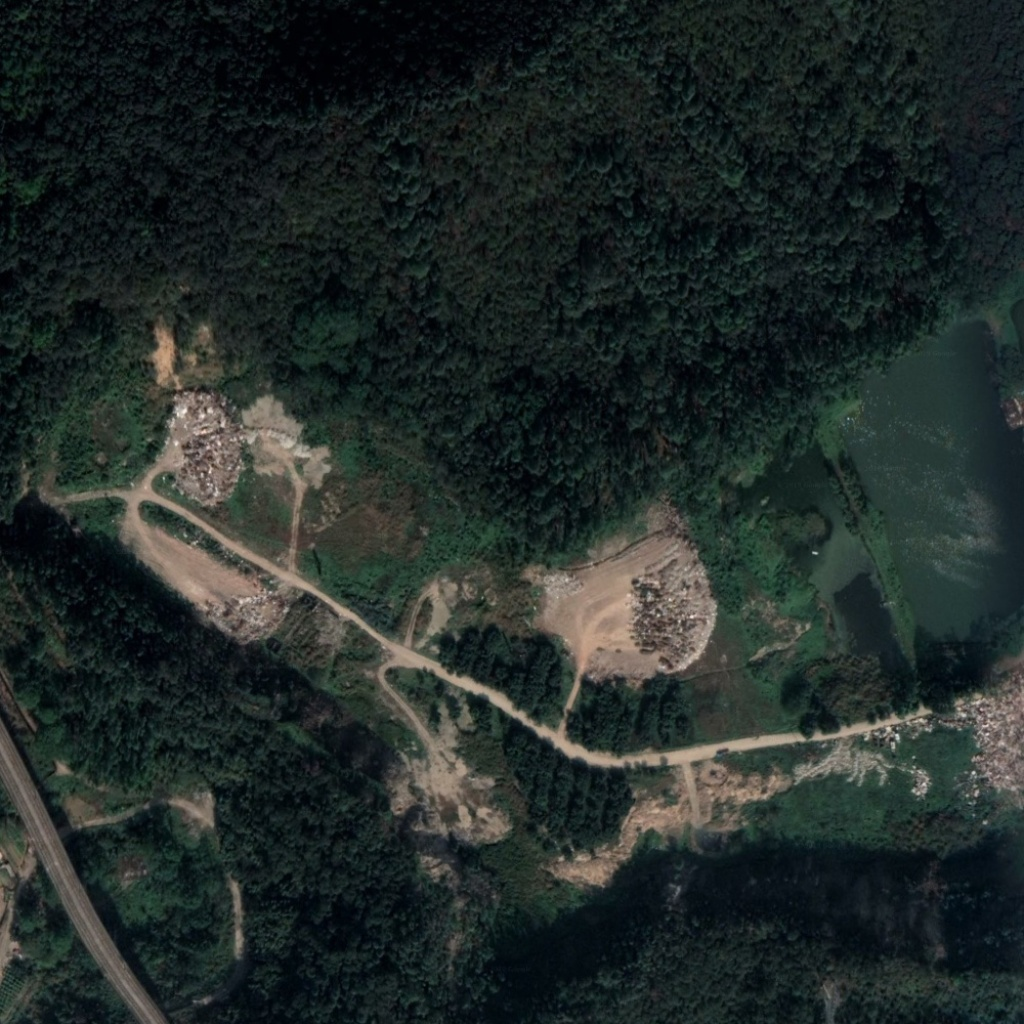agriculture forestry: (626, 557, 715, 673), (164, 388, 240, 503), (964, 676, 1022, 792), (197, 588, 292, 645)
domestic garbage: (540, 566, 584, 601)
